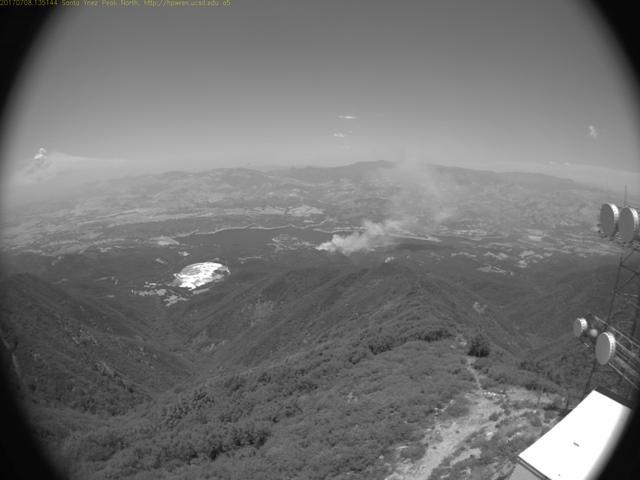smoke: (305, 155, 474, 261)
